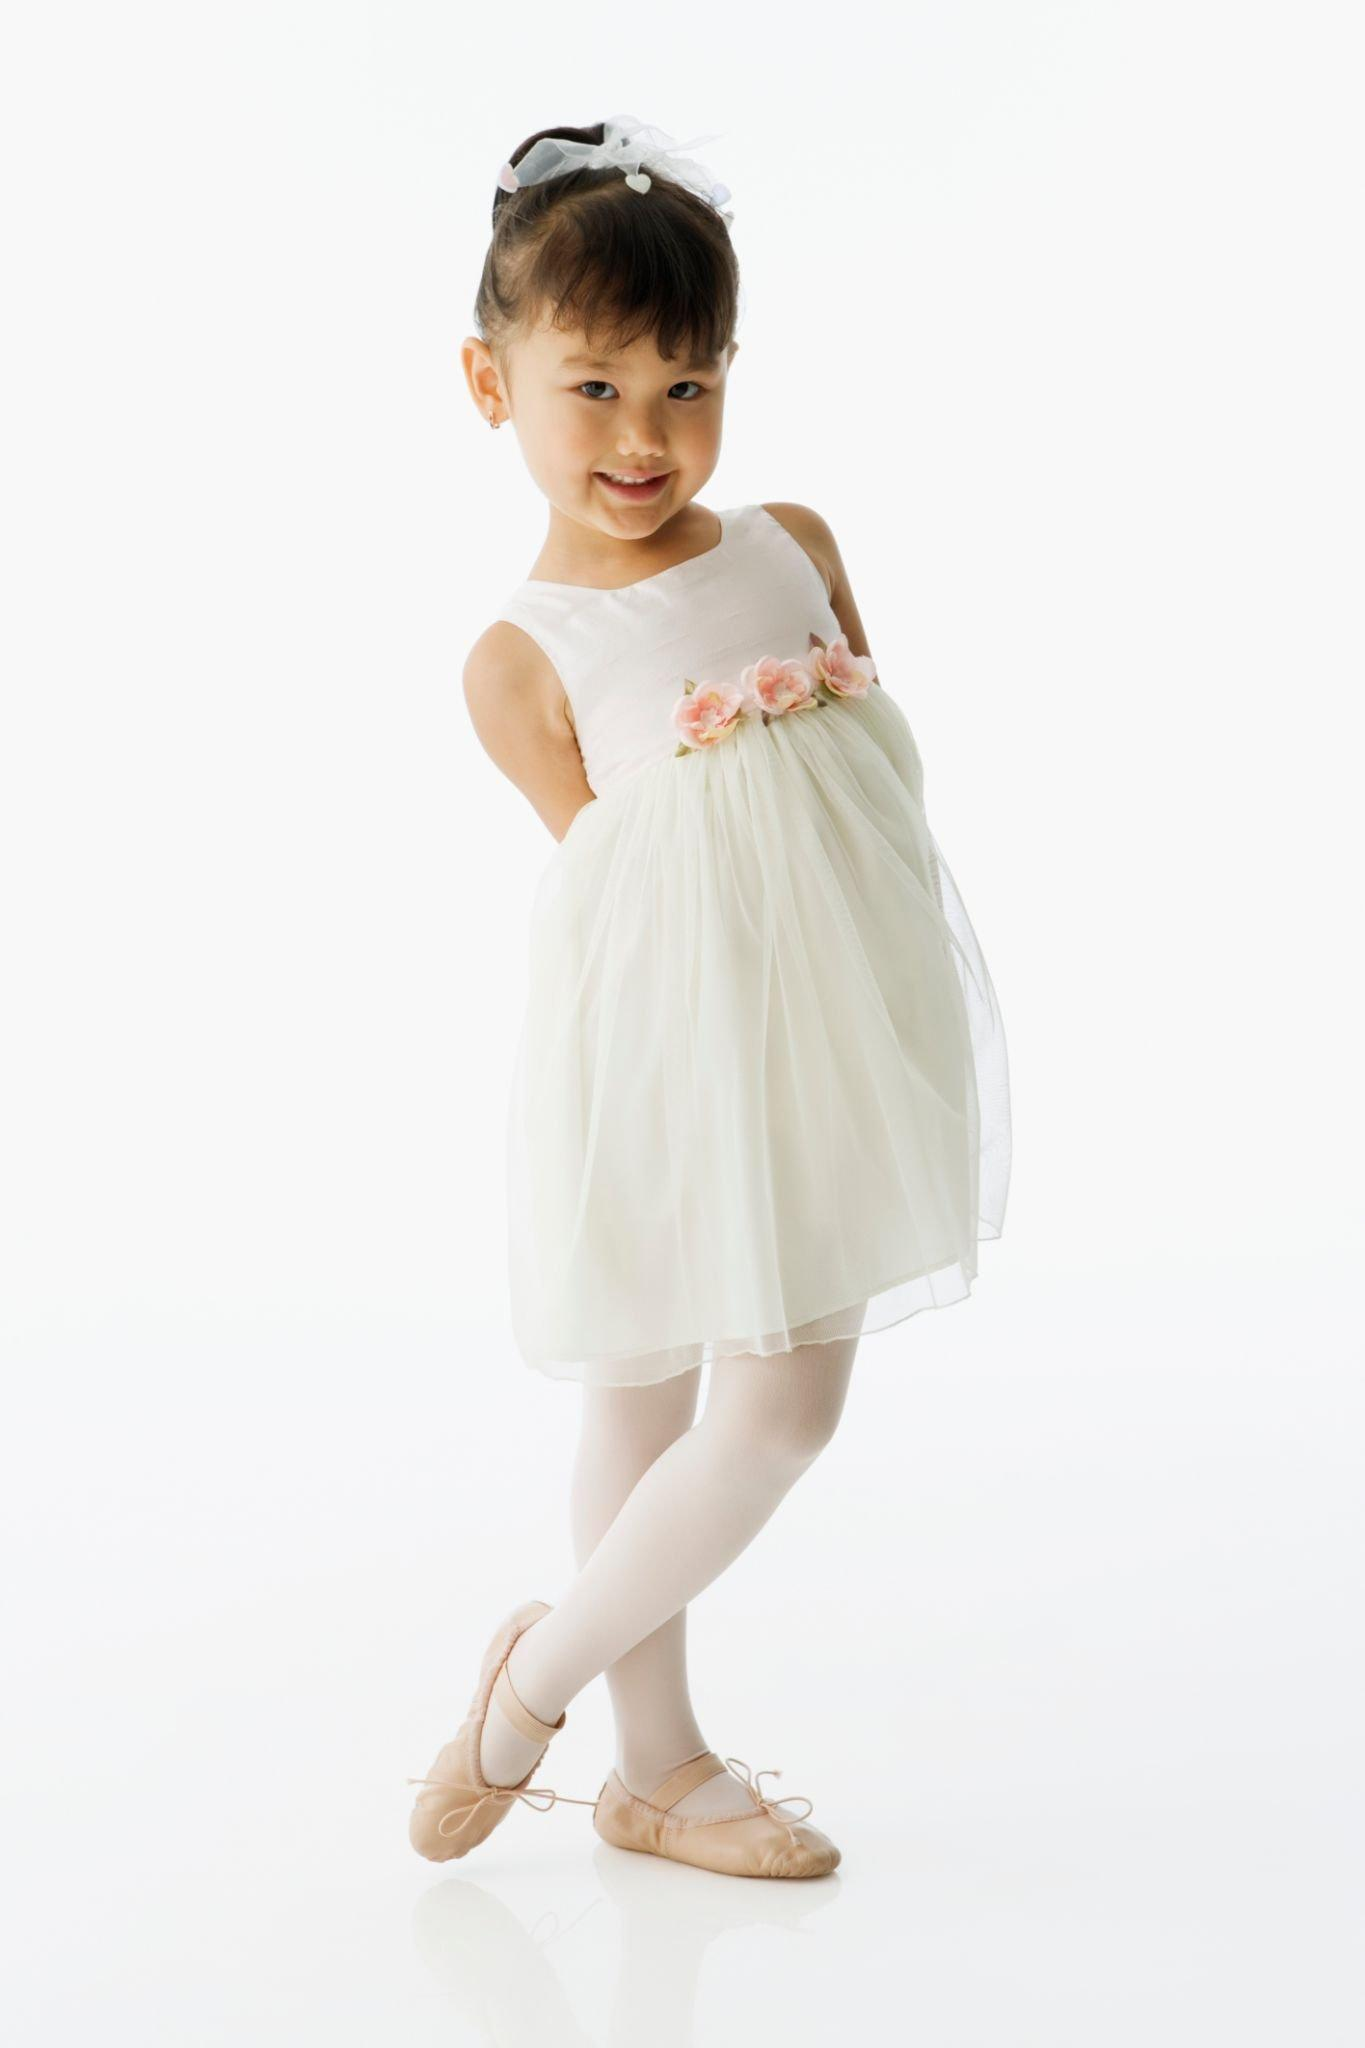Healthy: (446, 213, 756, 569)
